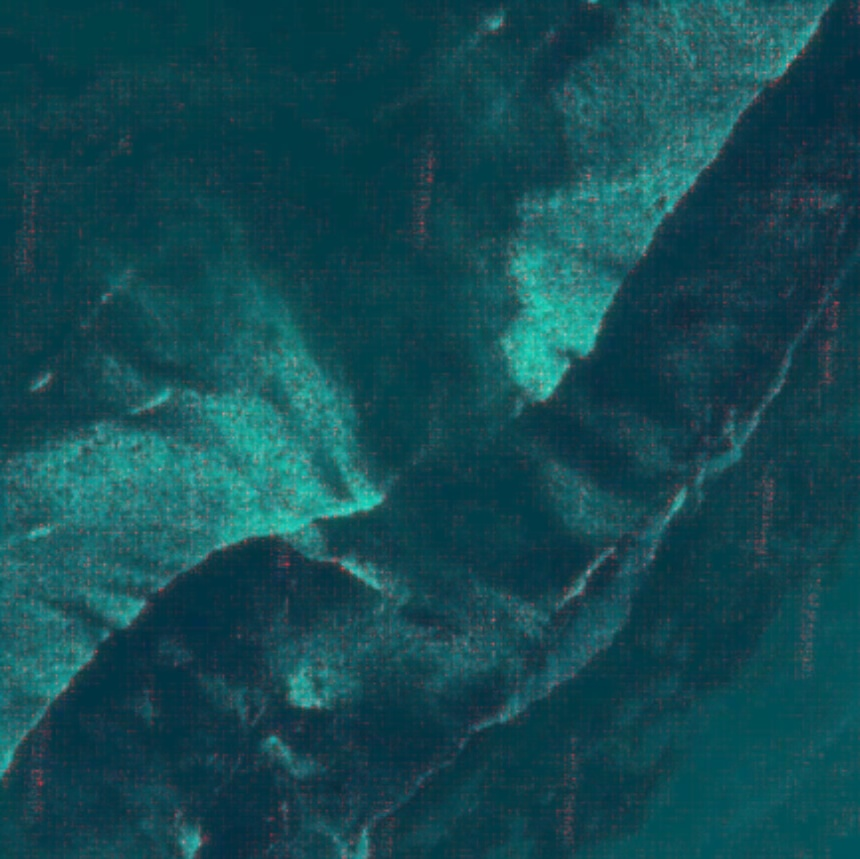rip_current: (238, 161, 629, 592)
